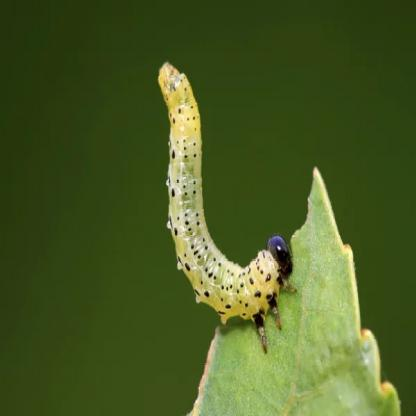sawfly: (155, 53, 293, 347)
